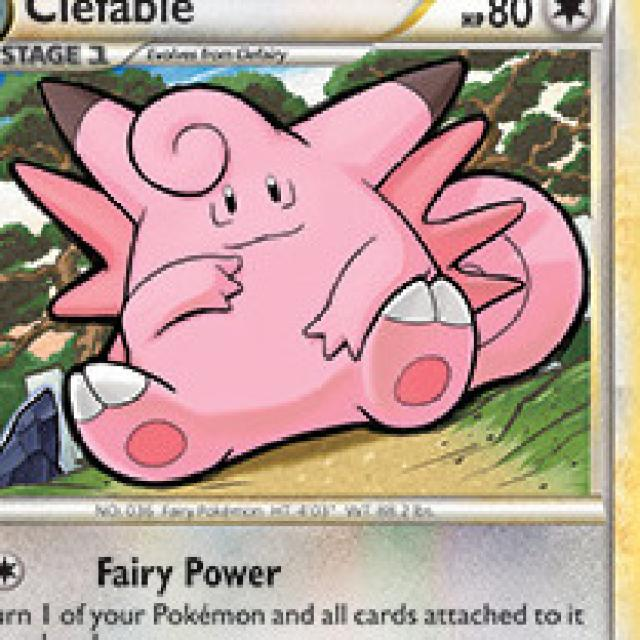Clefable: (28, 71, 590, 478)
